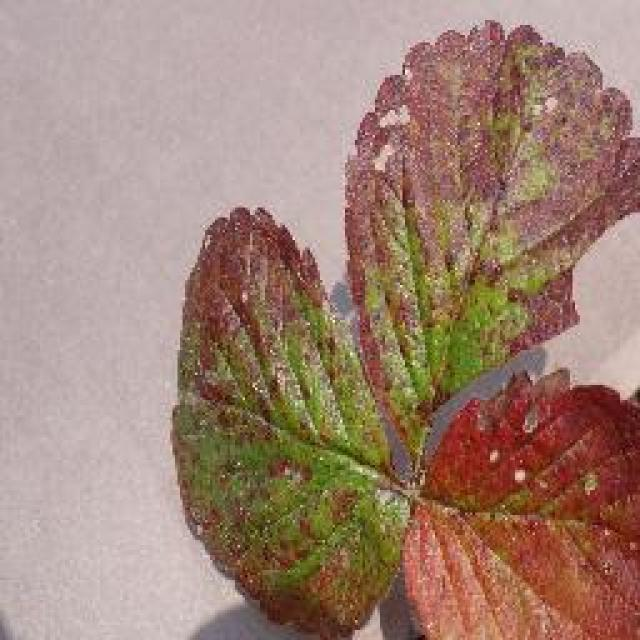Strawberry leaf scorch: (175, 54, 593, 594)
